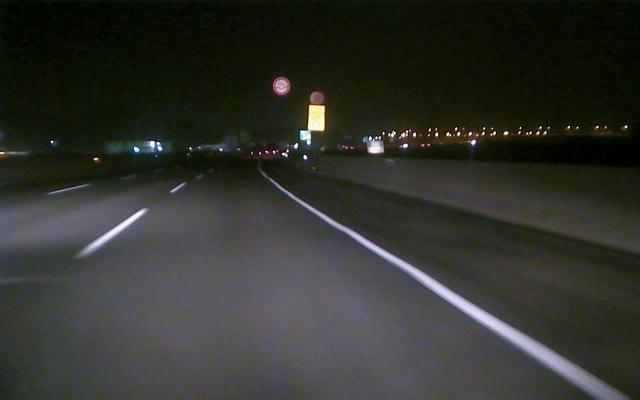lane: (275, 182, 627, 396), (73, 183, 183, 258), (46, 183, 90, 196)
